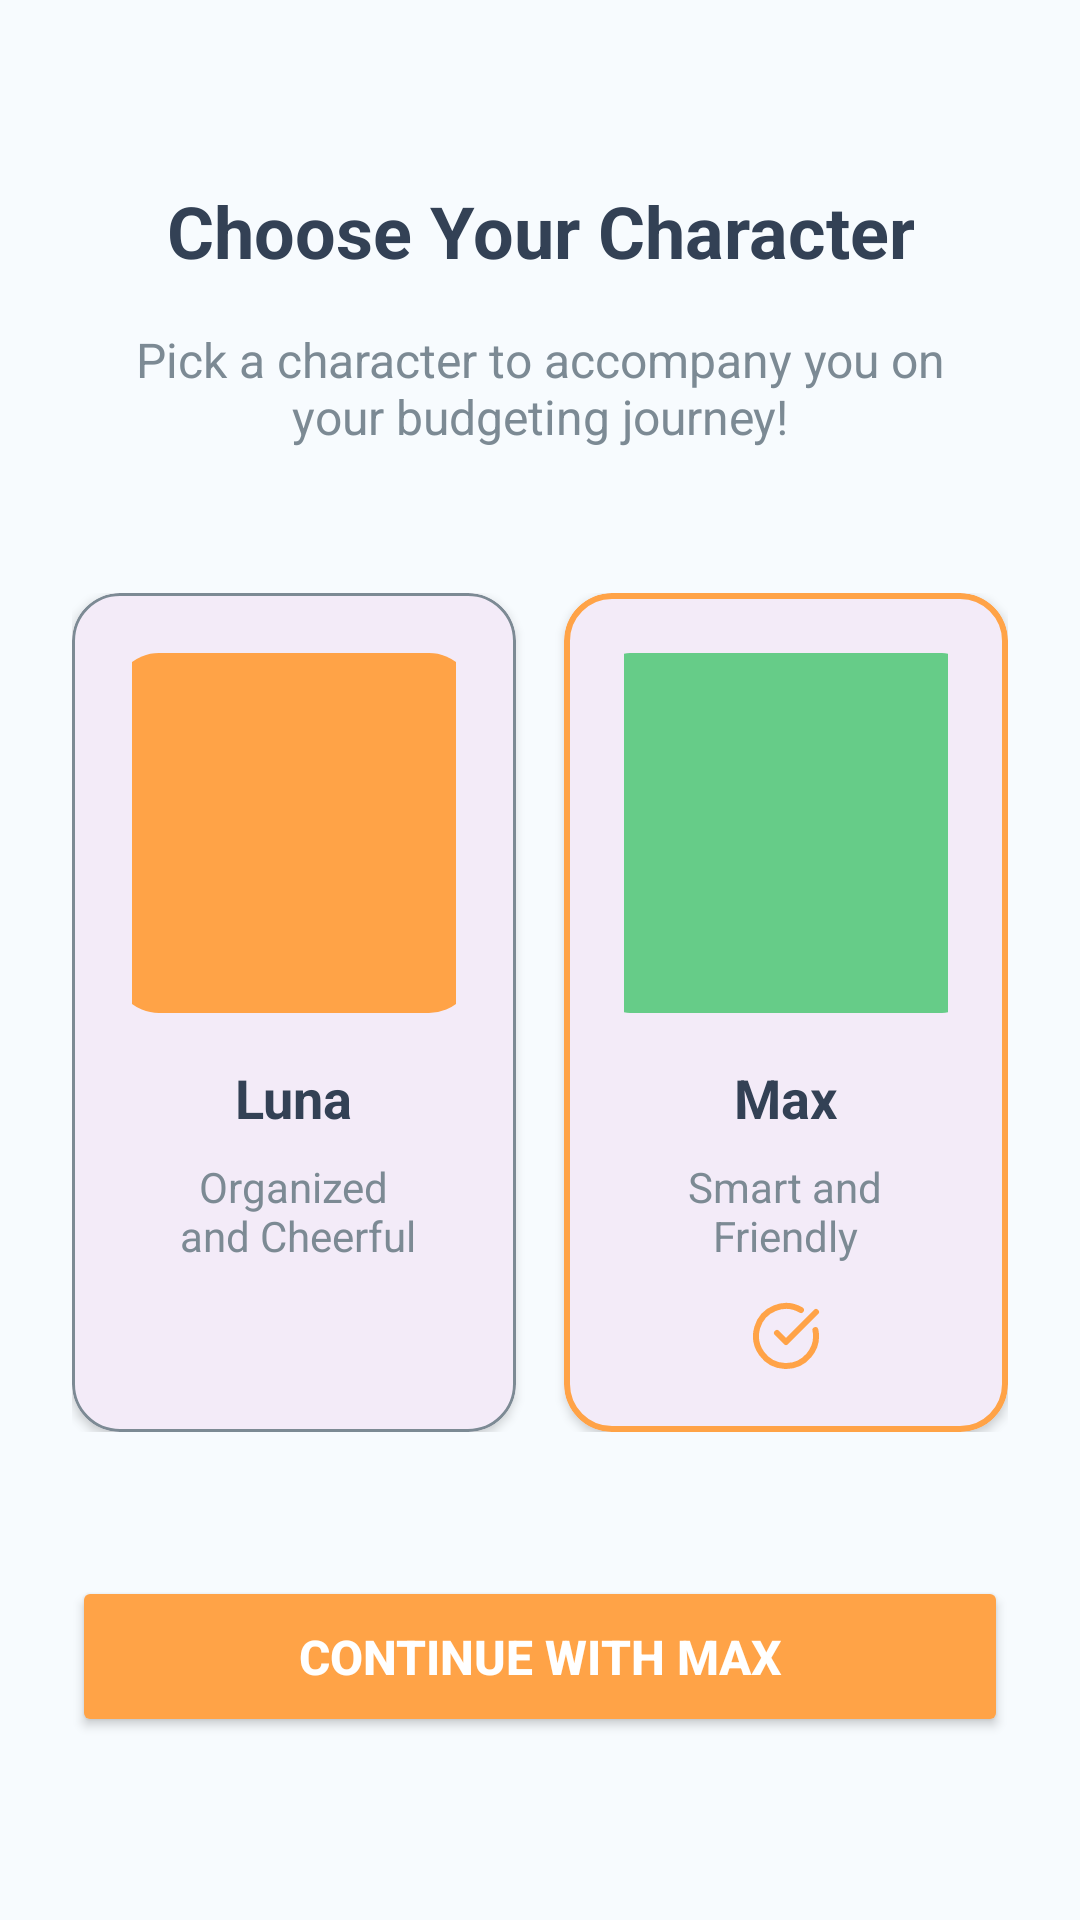

Icon bounding boxes for this 1080 x 1920 phone screenshot, format (x1, y1, x2, y2):
check circle: (753, 1302, 819, 1369)
